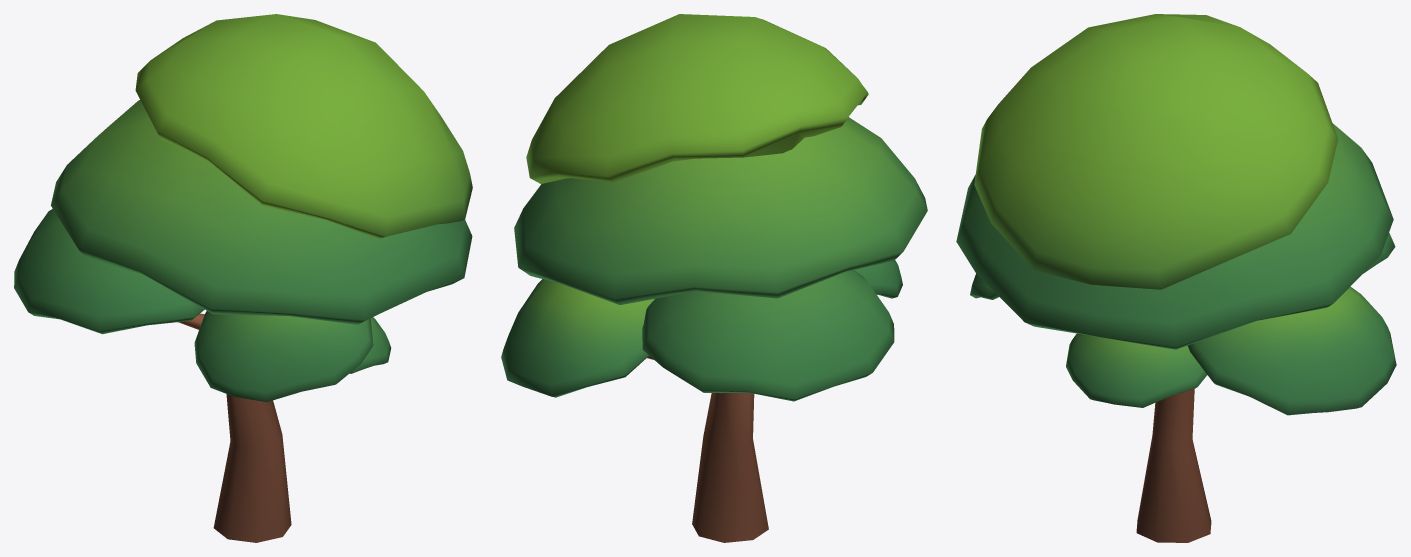
File: pohon_1.fbx
The picture shows the model from 3 angles, left to right: view 1: azimuth 30°, elevation 25°; view 2: azimuth 150°, elevation 25°; view 3: azimuth 270°, elevation 25°; orthographic projection. The views are drawn at different scales.
Parts seen in each view (by area): view 1: pohon_1; view 2: pohon_1; view 3: pohon_1.
Part boxes in pixels (x1=…): pohon_1: x1=14, y1=14, x2=472, y2=542; pohon_1: x1=501, y1=14, x2=927, y2=542; pohon_1: x1=956, y1=14, x2=1396, y2=542.
Size of the model in its own units: 9.55 by 11.98 by 9.51.
1 material, 1 textured.
